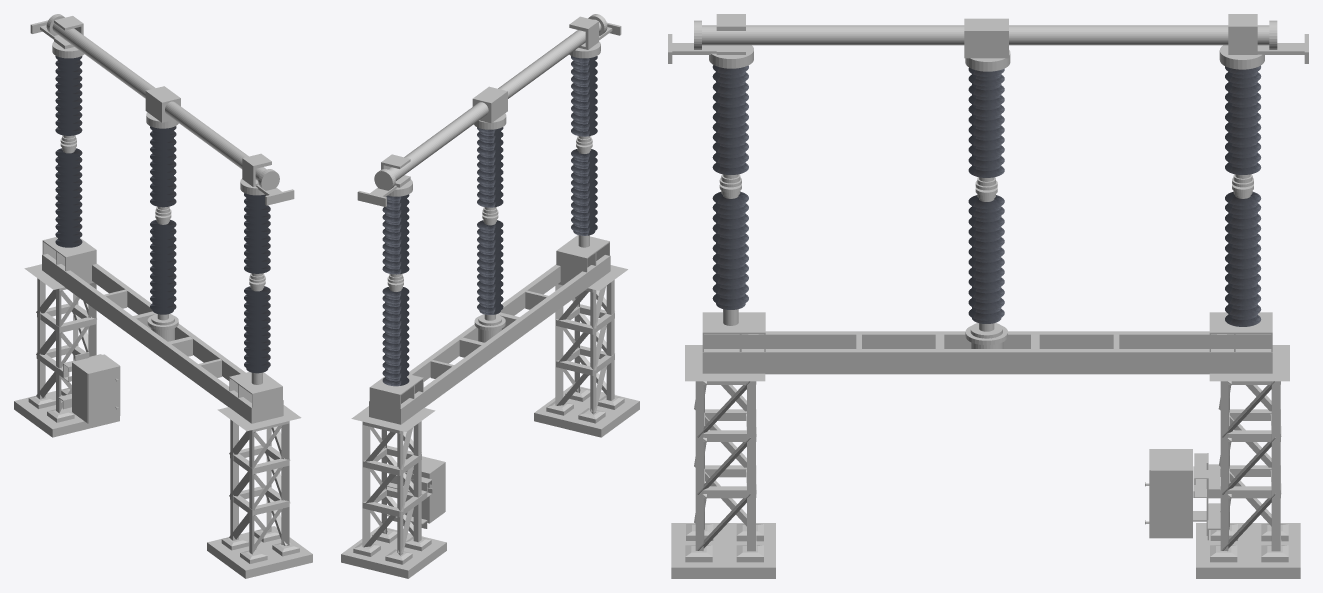
Rendered from torre3.fbx.
3 renders of one model, left to right at view 1: azimuth 30°, elevation 25°; view 2: azimuth 150°, elevation 25°; view 3: azimuth 270°, elevation 25°, orthographic. The views are drawn at different scales.
Visible parts, largest first — view 1: Cylinder.008, Cube.078; view 2: Cylinder.008, Cube.078; view 3: Cylinder.008, Cube.078.
Boxes of the visible parts, x1,y1,x2,y2 form: Cylinder.008: (14, 16, 312, 578); Cube.078: (46, 14, 279, 330); Cylinder.008: (341, 16, 639, 578); Cube.078: (374, 14, 607, 330); Cylinder.008: (668, 14, 1308, 578); Cube.078: (694, 18, 1277, 345).
Size of the model in its own units: 125 by 700 by 758.
